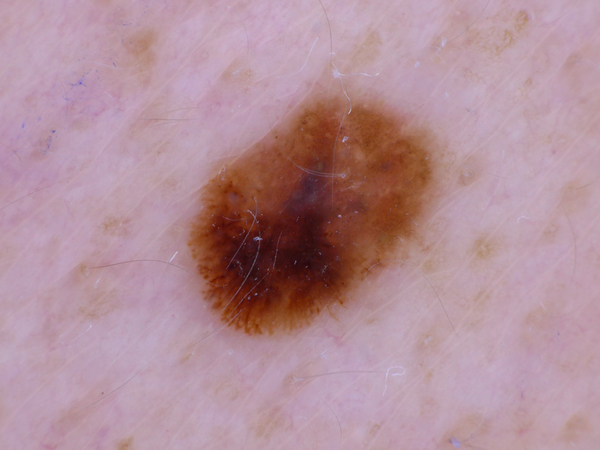Detected Lesion: (178, 90, 445, 342)
